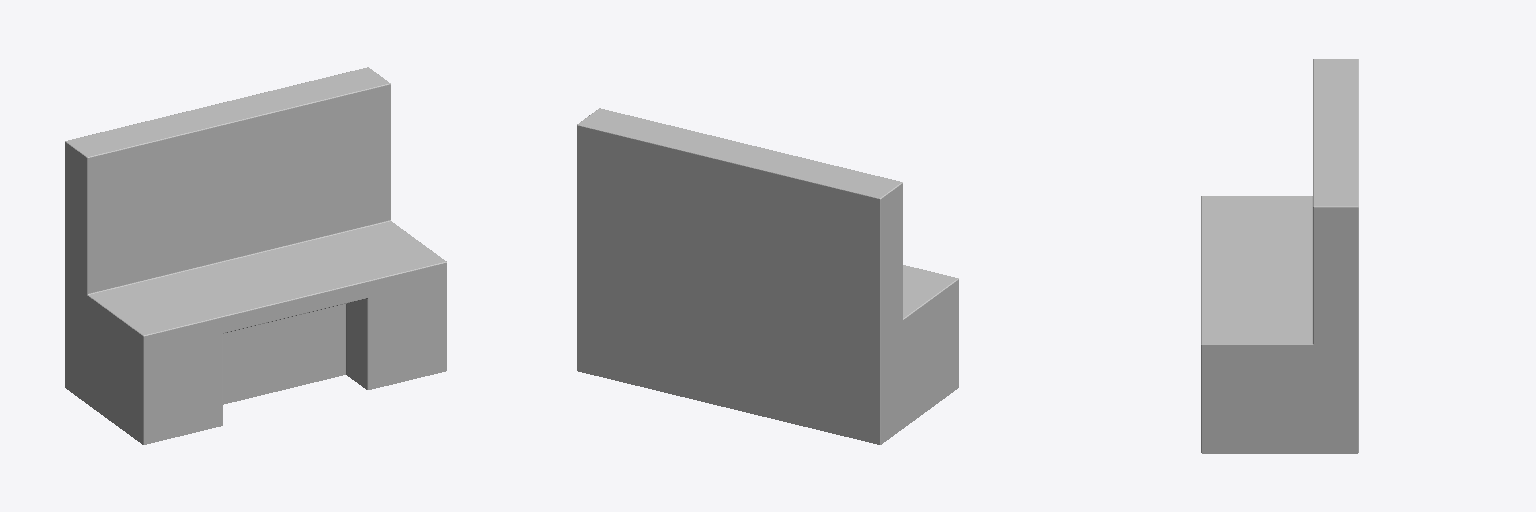
The model's file is Desk_Big.obj.
3 views of the same model, side by side, from view 1: azimuth 30°, elevation 25°; view 2: azimuth 150°, elevation 25°; view 3: azimuth 270°, elevation 25° (orthographic).
Visible parts, largest first — view 1: Desk_Big; view 2: Desk_Big; view 3: Desk_Big.
Boxes of the visible parts, x1=… form: Desk_Big: x1=65, y1=67, x2=446, y2=444; Desk_Big: x1=577, y1=108, x2=958, y2=444; Desk_Big: x1=1201, y1=59, x2=1358, y2=453.
Size of the model in its own units: 2.69 by 2.08 by 1.21.